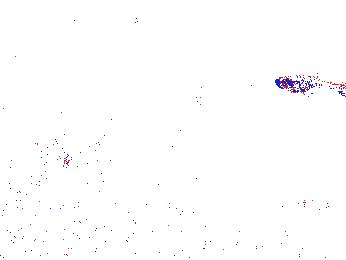X-ray fish: (73, 140, 121, 173), (32, 139, 76, 173)
redtail glassfish: (274, 72, 346, 99), (263, 195, 335, 215)
